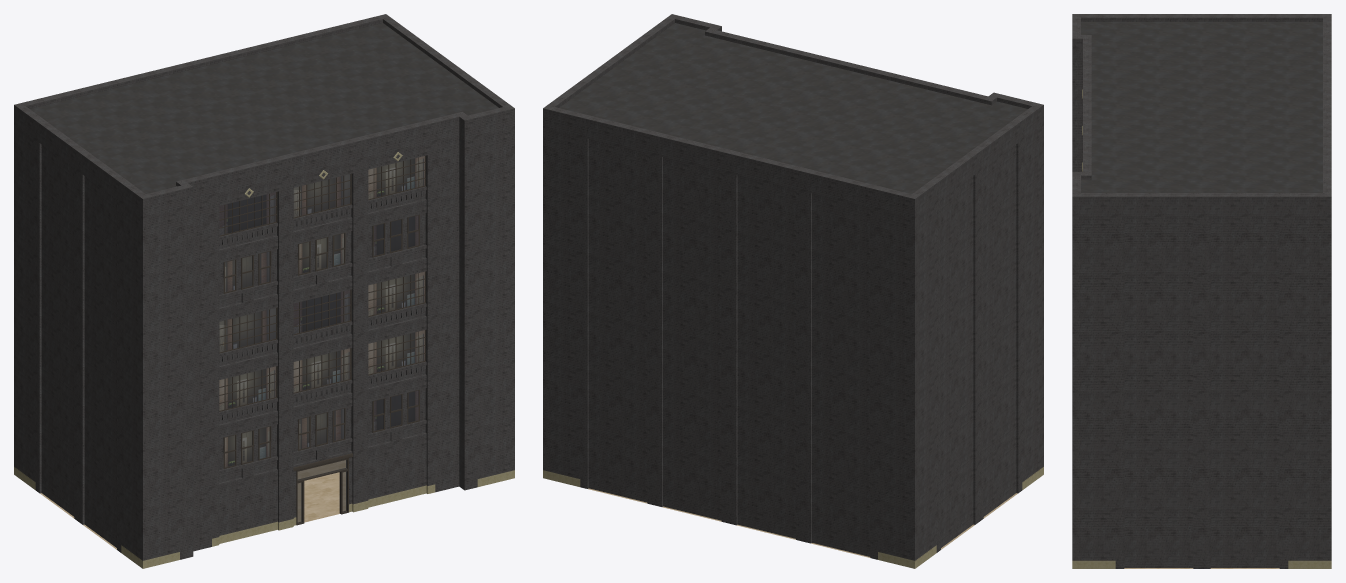
The model's file is Building_Small_2.gltf.
The picture shows the model from 3 angles, left to right: view 1: azimuth 30°, elevation 25°; view 2: azimuth 150°, elevation 25°; view 3: azimuth 270°, elevation 25°; orthographic projection.
Parts seen in each view (by area): view 1: Building_Small_2; view 2: Building_Small_2; view 3: Building_Small_2.
Boxes of the visible parts, bbox=[...] form: Building_Small_2: bbox=[14, 14, 514, 568]; Building_Small_2: bbox=[543, 14, 1043, 568]; Building_Small_2: bbox=[1072, 14, 1331, 568].
Bounding box in the file's own units: 20 × 19 × 12.
11 materials, 10 textured.
